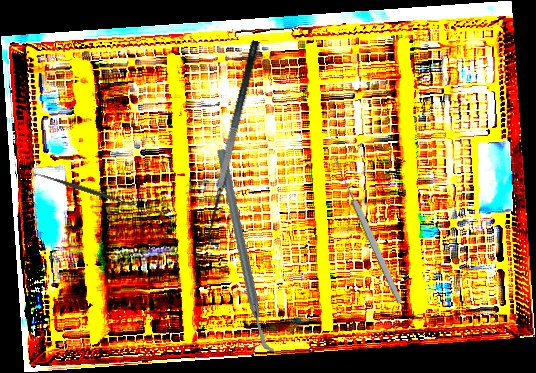Chopper: (180, 148, 314, 357)
Spatula Surgical: (195, 39, 278, 249), (31, 167, 141, 212)
Surgical Spoon: (331, 156, 405, 305)
